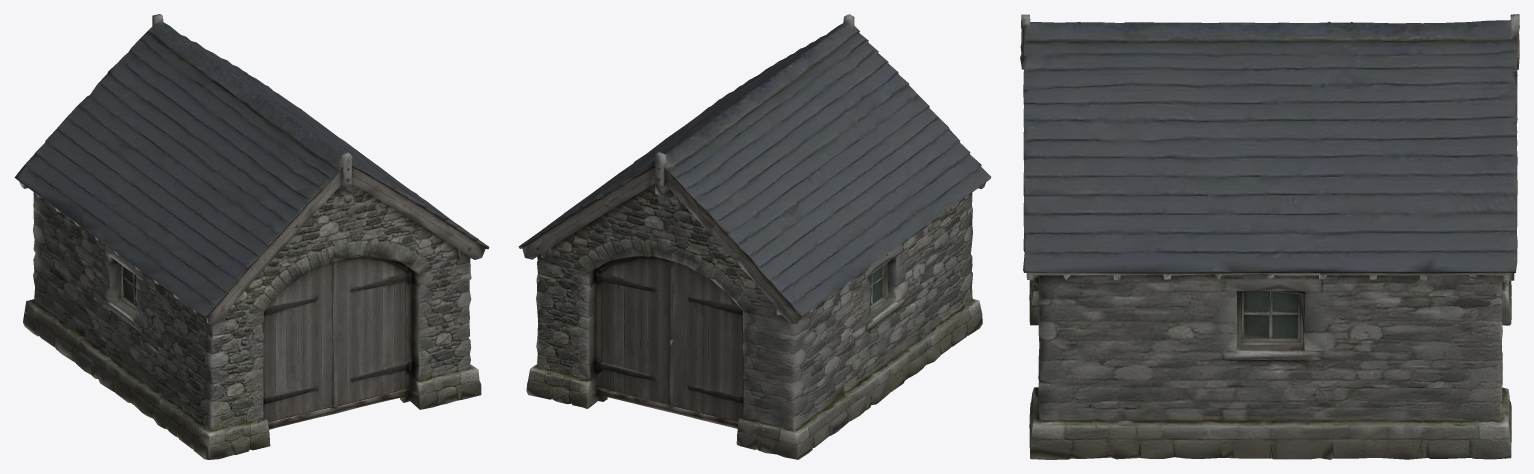
File: kestrel-boathouse.glb
The picture shows the model from 3 angles, left to right: view 1: azimuth 30°, elevation 25°; view 2: azimuth 150°, elevation 25°; view 3: azimuth 270°, elevation 25°; orthographic projection. The views are drawn at different scales.
Parts seen in each view (by area): view 1: tripo_node_898d5217-6371-4116-ad62-d71b147182d7; view 2: tripo_node_898d5217-6371-4116-ad62-d71b147182d7; view 3: tripo_node_898d5217-6371-4116-ad62-d71b147182d7.
Part boxes in pixels (x1,y1,x2,y2): tripo_node_898d5217-6371-4116-ad62-d71b147182d7: (14,14,489,459); tripo_node_898d5217-6371-4116-ad62-d71b147182d7: (518,14,991,459); tripo_node_898d5217-6371-4116-ad62-d71b147182d7: (1020,14,1519,459).
Size of the model in its own units: 0.8538 by 0.7928 by 1.
1 material, 1 textured.
